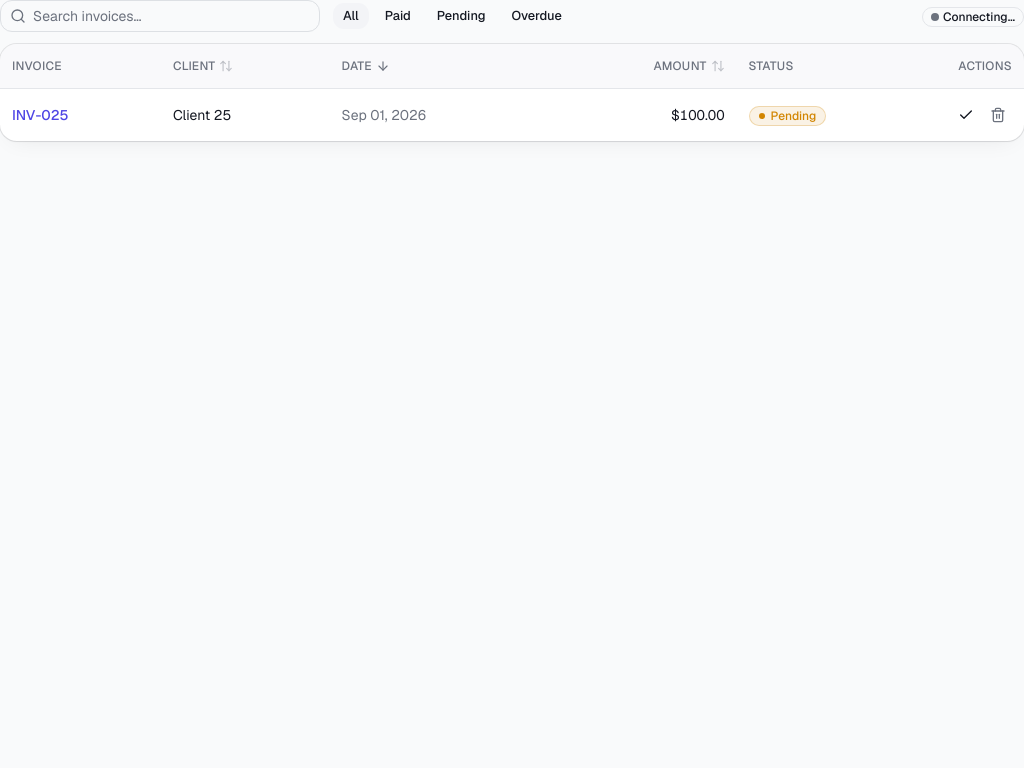
InvoiceTable › keeps the invoice when the user cancels the deletion
Click the button named "Delete invoice" at point(998, 114), box [984, 100, 1012, 128]
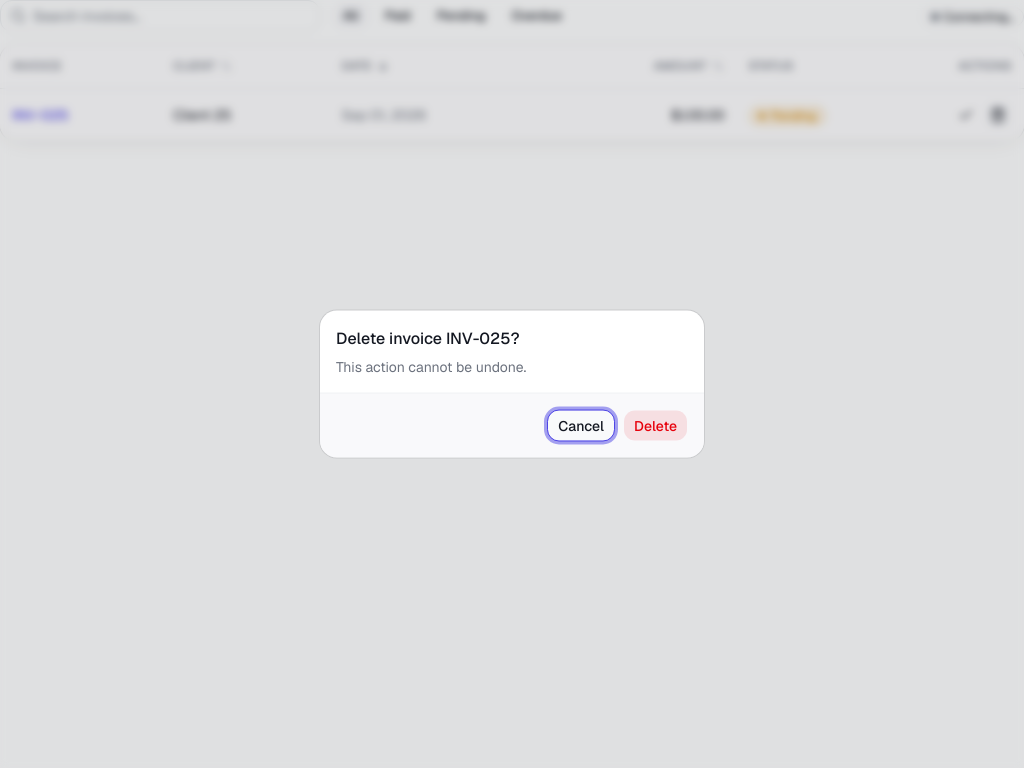
Click the button "Cancel" at point(581, 426), box [547, 410, 615, 442]
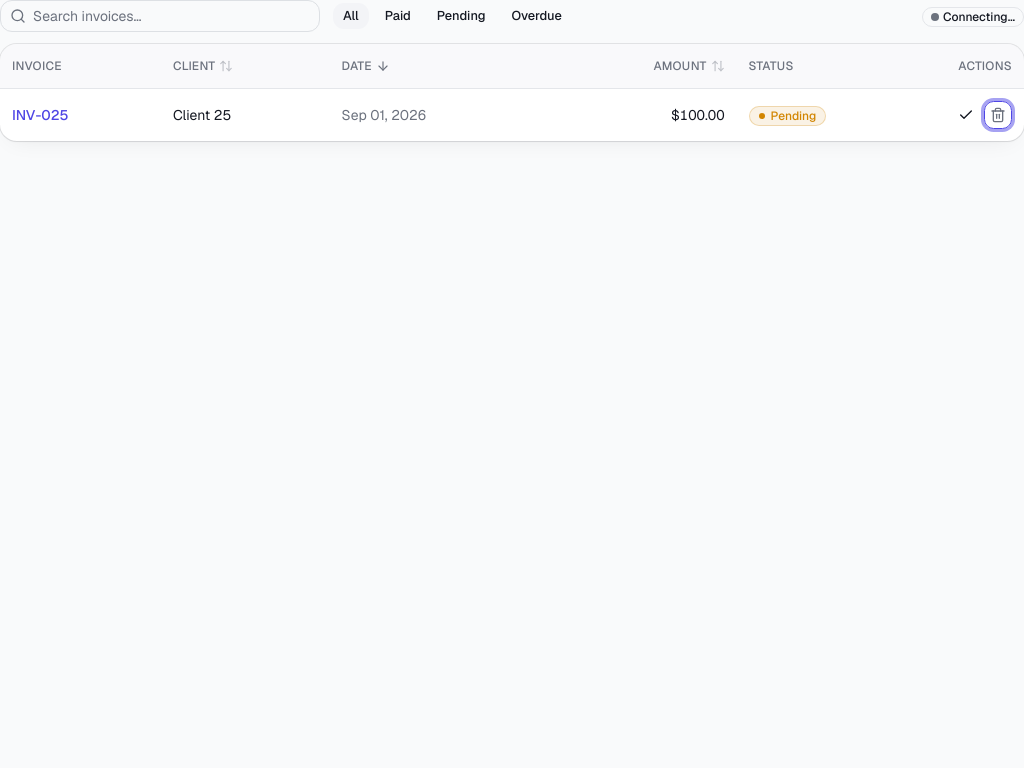
Check: the row "INV-025 Client 25 Sep 01, 2026 $100.00 Pending" is shown, box [0, 88, 1023, 140]
Check: the dialog is gone
